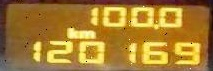-: (151, 23, 159, 28)
0: (77, 40, 104, 63), (128, 6, 153, 27), (157, 6, 181, 27), (101, 6, 125, 26)
1: (30, 40, 41, 61), (88, 6, 98, 25), (126, 41, 135, 62)
2: (44, 39, 72, 62)
6: (139, 41, 166, 64)
9: (172, 41, 199, 64)
X: (65, 26, 78, 38), (78, 29, 94, 37)
